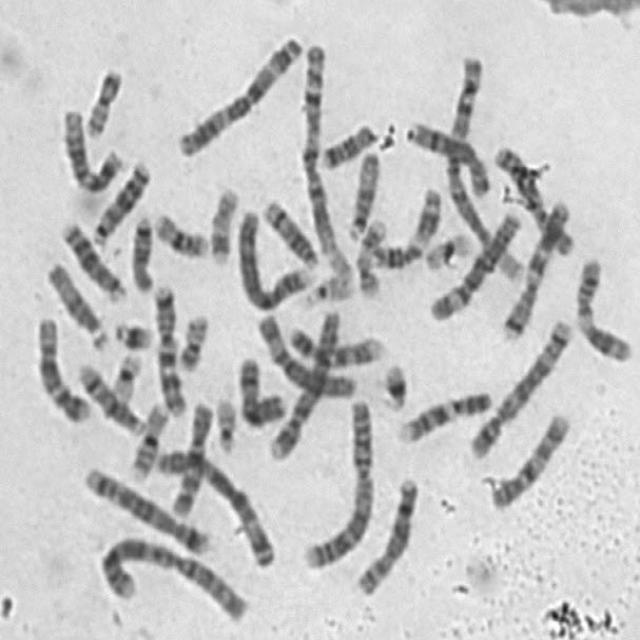A1: (440, 47, 527, 287), (294, 33, 356, 286)
A2: (91, 526, 252, 624), (296, 389, 376, 571)
A3: (170, 26, 306, 158), (149, 440, 276, 570)
B4: (262, 298, 346, 463), (229, 200, 315, 312)
B5: (462, 309, 576, 460), (77, 458, 213, 556)
C10: (484, 403, 572, 512), (164, 390, 216, 519)
C11: (568, 247, 635, 365), (365, 177, 444, 272)
C12: (28, 306, 93, 425), (52, 98, 126, 194)
C6: (423, 202, 522, 322), (250, 305, 360, 400)
C7: (496, 190, 572, 342), (146, 276, 188, 418)
C8: (349, 468, 422, 598), (402, 111, 492, 199)
C9: (391, 381, 495, 445), (280, 317, 387, 368)
D13: (54, 212, 128, 304), (85, 152, 153, 248)
D14: (70, 354, 148, 438), (255, 190, 322, 270)
D15: (38, 252, 111, 352), (341, 142, 382, 242)
E16: (122, 394, 171, 483), (146, 202, 211, 260)
E17: (349, 210, 389, 300), (202, 178, 242, 266)
E18: (314, 112, 380, 171), (123, 206, 156, 294)
F19: (418, 223, 476, 273), (104, 343, 144, 403)
F20: (77, 57, 125, 139), (171, 304, 211, 372)
G21: (108, 310, 156, 352), (376, 353, 410, 412)
G22: (296, 265, 354, 309), (208, 387, 239, 454)
X: (487, 135, 577, 259), (230, 347, 289, 428)
